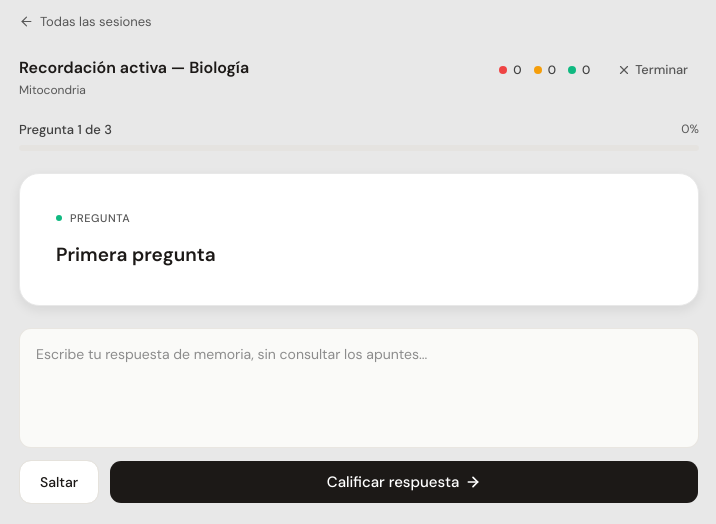
Scenario: ActiveRecallPlayer session flow › 'Saltar' counts as a 0 self-rating and moves on without the scale
Click the button "Saltar".
click(59, 482)  # box [19,460,99,504]
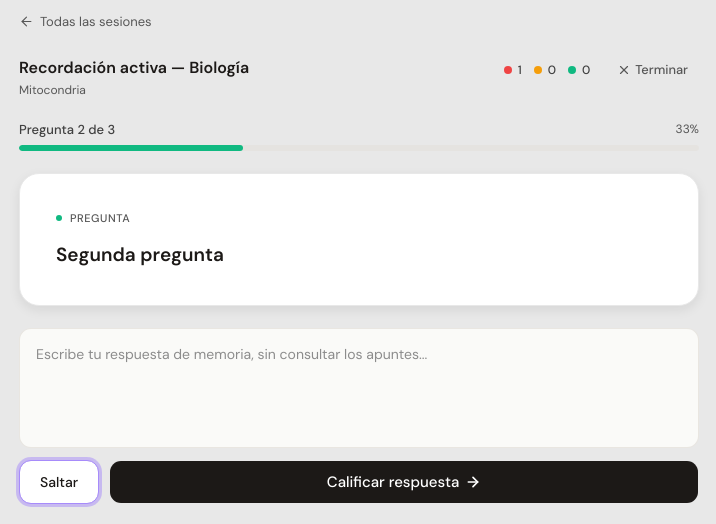
expect the text "Pregunta 2 de 3" is shown: met, box [19,120,115,139]
